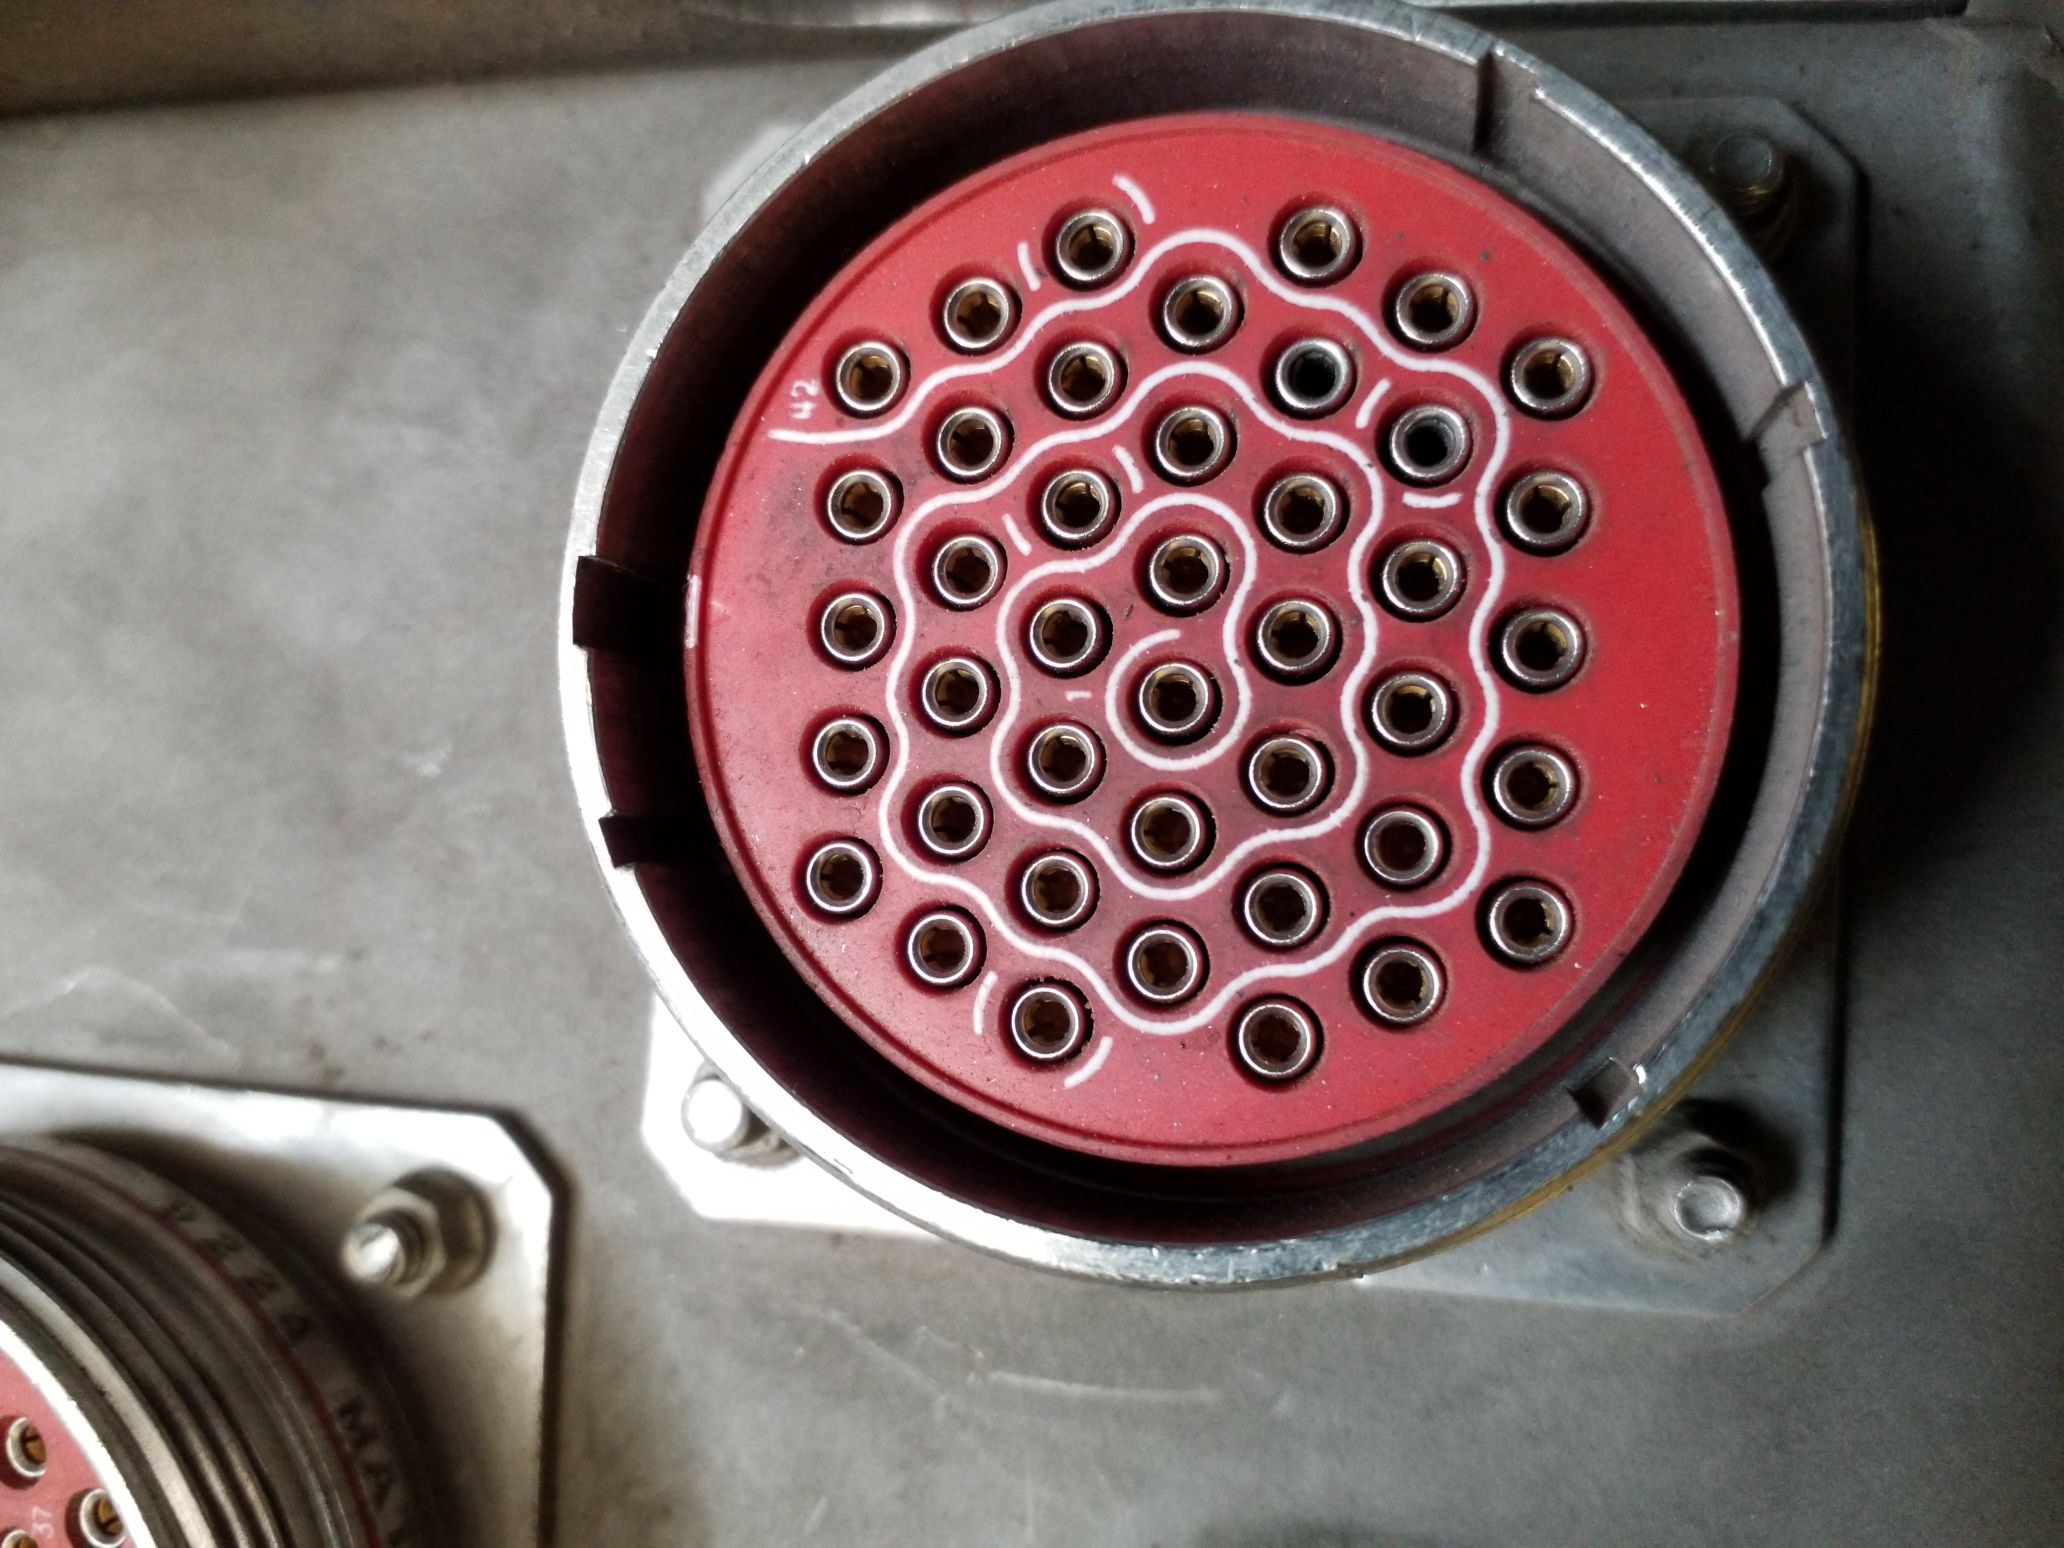inletround: (557, 3, 1890, 1322)
